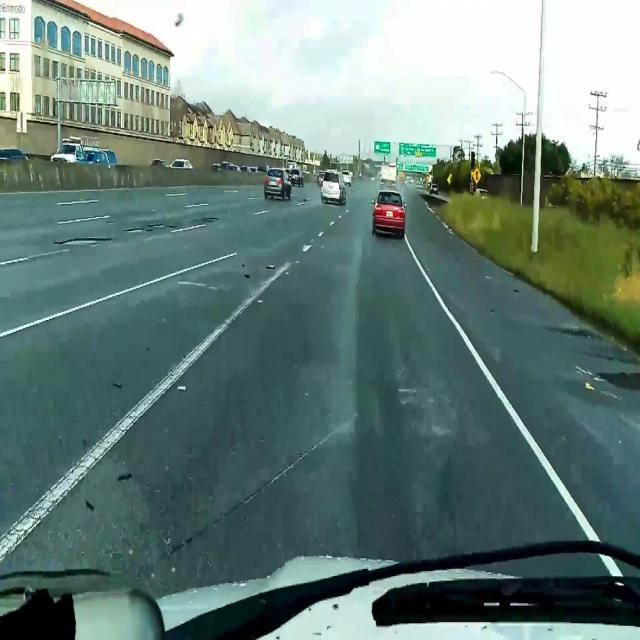Pothole: (54, 237, 112, 246), (145, 222, 164, 229), (125, 228, 144, 232), (205, 217, 219, 221), (302, 199, 310, 202)
